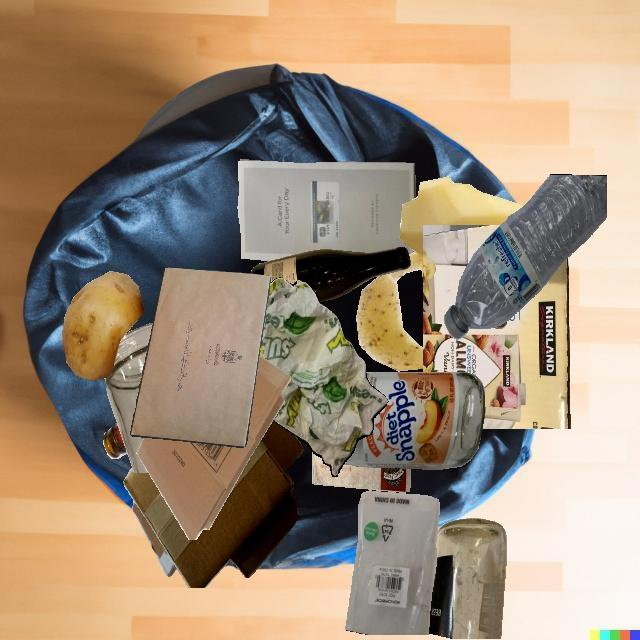biowaste: (356, 176, 524, 371), (62, 271, 144, 380)
cardboard: (123, 420, 303, 588), (423, 225, 570, 429), (136, 355, 291, 540), (132, 501, 177, 577), (346, 338, 347, 339)
glass: (344, 372, 485, 469), (428, 518, 507, 639), (250, 246, 411, 302), (104, 323, 153, 473), (103, 422, 127, 459)
paper: (259, 277, 388, 476), (130, 267, 271, 448), (238, 159, 416, 260), (312, 452, 411, 493)
plastic: (444, 174, 607, 339), (345, 491, 439, 635)
